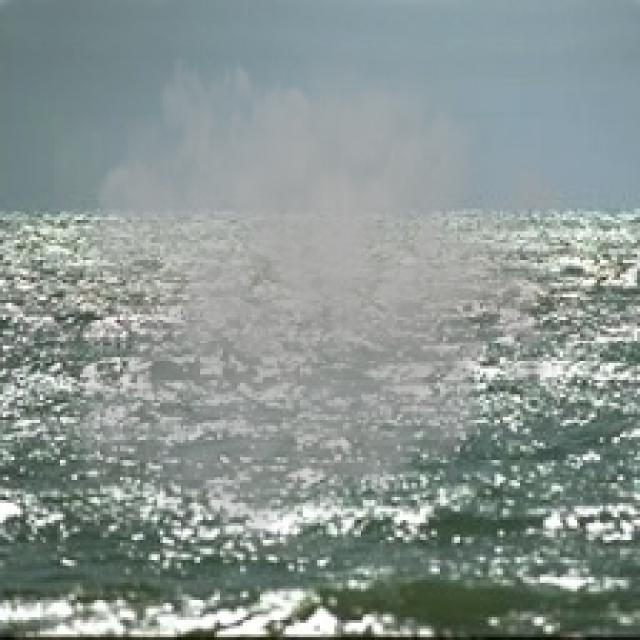smoke: (54, 20, 586, 557)
